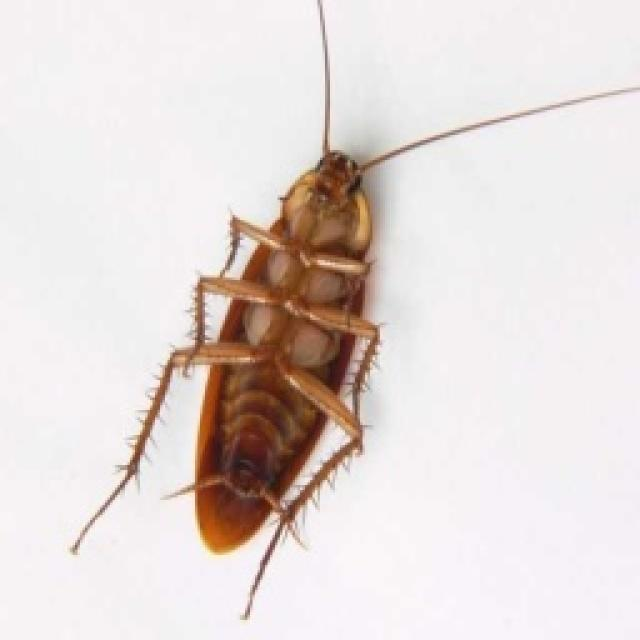cockroach: (96, 48, 494, 609)
